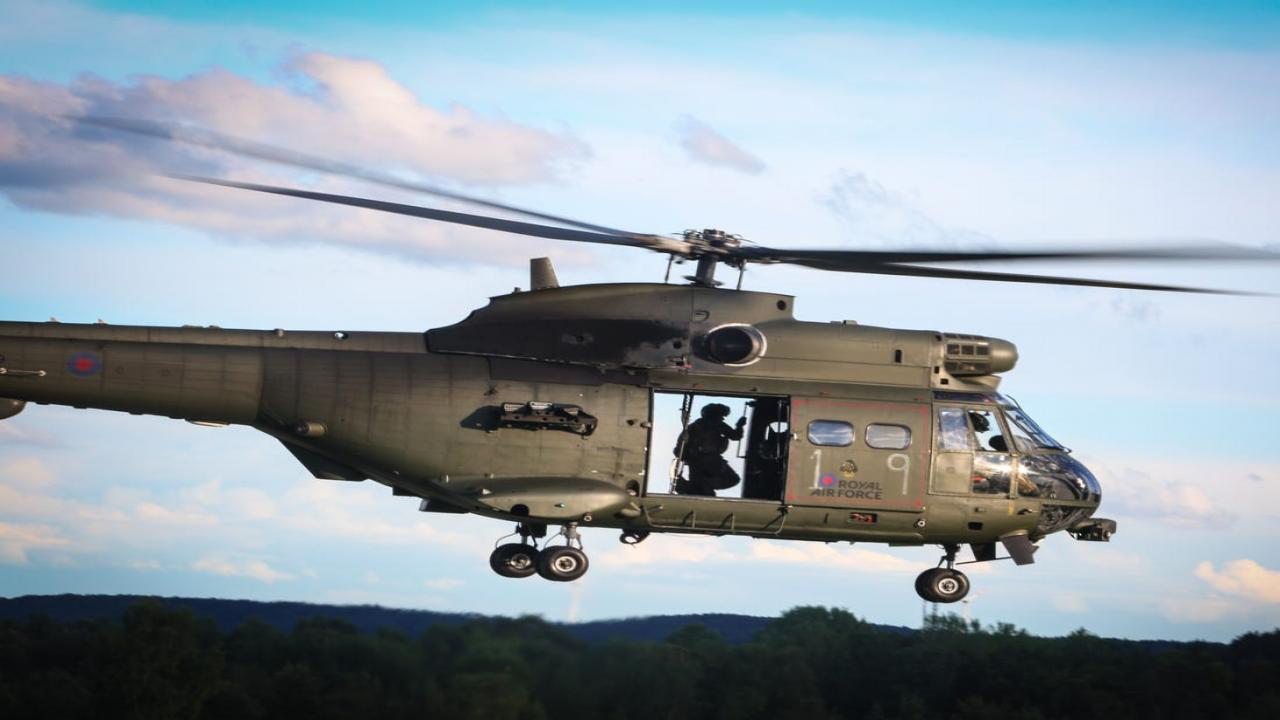Helicopter: (0, 105, 1280, 608)
